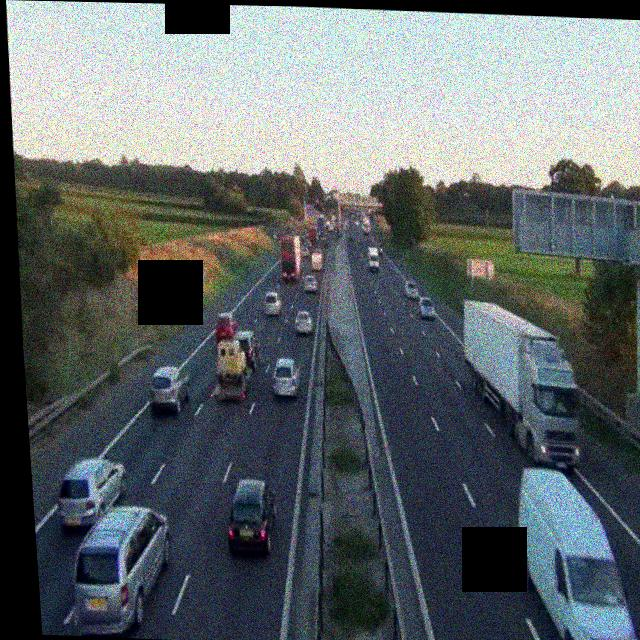car: (66, 503, 177, 637), (53, 455, 127, 534), (224, 478, 279, 556), (147, 364, 193, 414), (270, 356, 300, 397), (235, 331, 261, 373), (214, 313, 237, 342), (262, 289, 282, 316), (416, 294, 435, 318), (294, 310, 312, 334), (404, 281, 420, 301), (302, 274, 318, 292)
truck: (457, 298, 585, 467), (209, 332, 258, 400), (277, 234, 303, 281), (365, 244, 379, 271), (309, 249, 324, 270), (315, 213, 325, 234), (359, 213, 369, 233)
